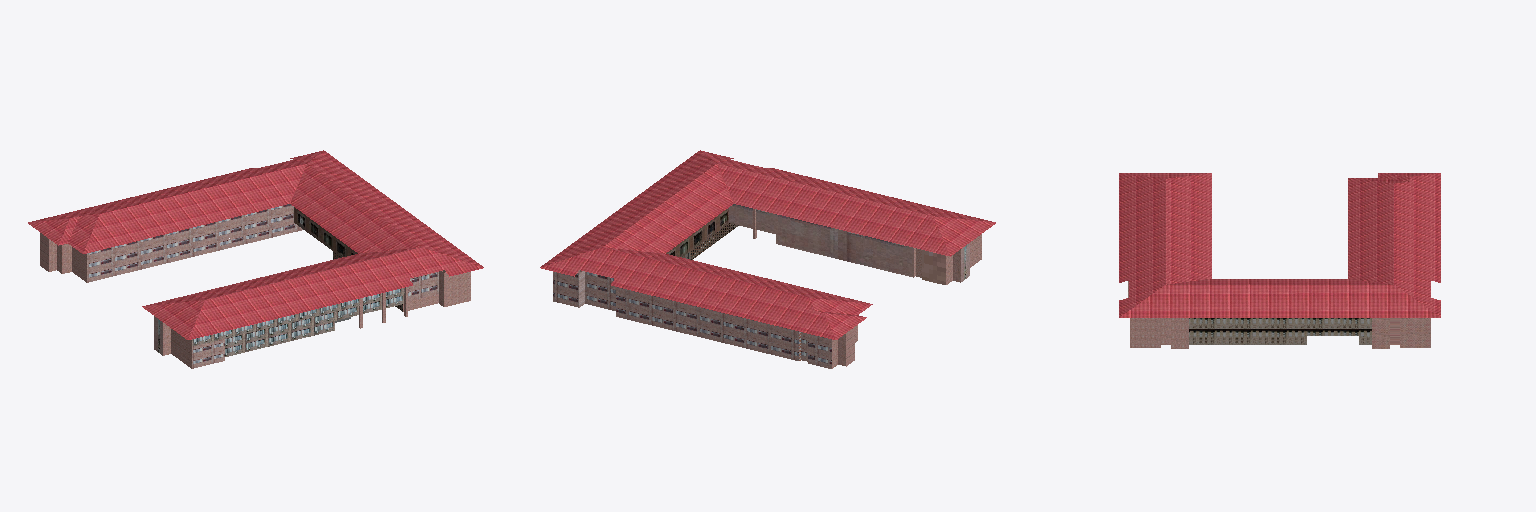
3 views of the same model, side by side, from view 1: azimuth 30°, elevation 25°; view 2: azimuth 150°, elevation 25°; view 3: azimuth 270°, elevation 25° (orthographic).
Parts seen in each view (by area): view 1: VMtl1726, VMtl1720, VMtl1717, VMtl1722, VMtl1724, VMtl1721, VMtl1716, VMtl1714; view 2: VMtl1726, VMtl1720, VMtl1724, VMtl1716, VMtl1714, VMtl1721, VMtl1722; view 3: VMtl1726, VMtl1724, VMtl1718, VMtl1722.
Part boxes in pixels (x1,y1,x2,y2): VMtl1726: (28, 151, 483, 339); VMtl1720: (87, 204, 438, 300); VMtl1717: (192, 288, 404, 356); VMtl1722: (40, 233, 470, 328); VMtl1724: (28, 150, 323, 222); VMtl1721: (294, 207, 402, 311); VMtl1716: (163, 323, 191, 368); VMtl1714: (192, 339, 224, 368); VMtl1726: (540, 150, 995, 339); VMtl1720: (553, 204, 913, 368); VMtl1724: (541, 247, 835, 339); VMtl1716: (914, 234, 981, 284); VMtl1714: (776, 235, 913, 277); VMtl1721: (666, 208, 738, 259); VMtl1722: (578, 209, 857, 368); VMtl1726: (1119, 173, 1439, 317); VMtl1724: (1394, 173, 1440, 317); VMtl1718: (1189, 318, 1371, 344); VMtl1722: (1128, 281, 1430, 348).
Bounding box in the file's own units: 115 × 17.89 × 108.
14 materials, 9 textured.